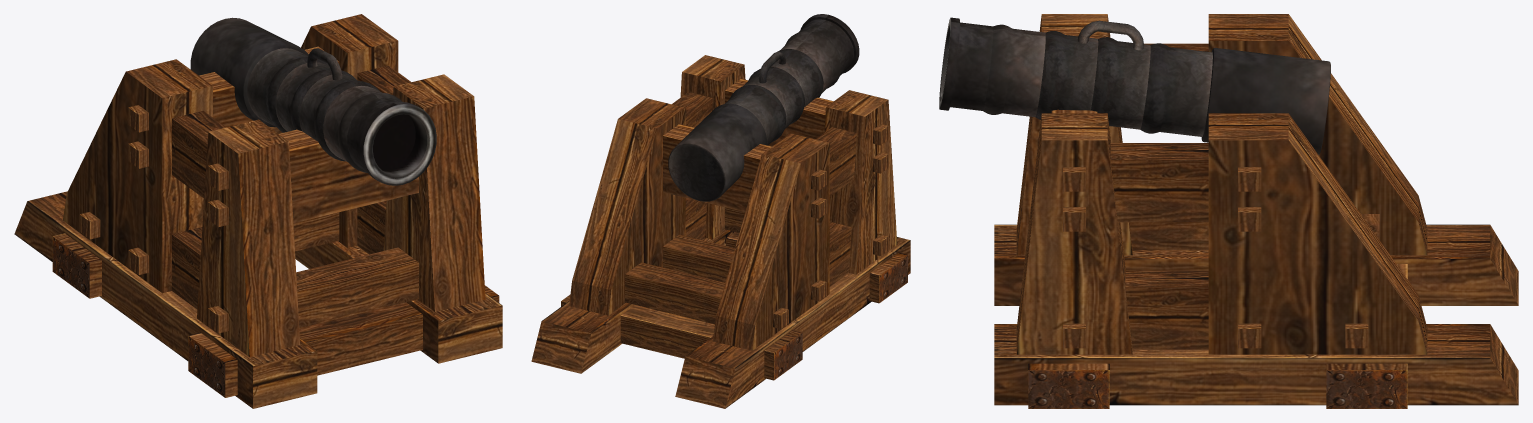
File: cannon.glb
3 views of the same model, side by side, from view 1: azimuth 30°, elevation 25°; view 2: azimuth 150°, elevation 25°; view 3: azimuth 270°, elevation 25° (orthographic). The views are drawn at different scales.
Visible parts, largest first — view 1: Cube.011, Cylinder; view 2: Cube.011, Cylinder; view 3: Cube.011, Cylinder.
Boxes of the visible parts, bbox=[...] form: Cube.011: bbox=[14, 14, 502, 408]; Cylinder: bbox=[190, 17, 436, 185]; Cube.011: bbox=[531, 55, 910, 408]; Cylinder: bbox=[668, 14, 859, 201]; Cube.011: bbox=[994, 14, 1518, 408]; Cylinder: bbox=[939, 17, 1330, 154].
Size of the model in its own units: 1.82 by 1.83 by 3.03.
1 material, 1 textured.
